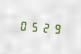five: (29, 19, 39, 33)
nine: (51, 21, 61, 35)
two: (40, 20, 50, 34)
zero: (18, 18, 28, 32)
